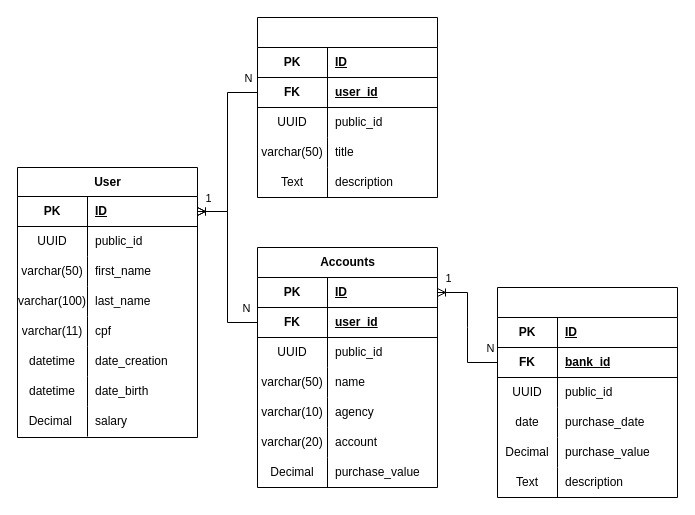
The diagram is 695 pixels wide and 515 high, and some of its shapes have lost their labels. Here are the shapes that lost their labels. From the top down, the box of each, then its label:
(256, 16, 438, 198): FinancialProfile
(496, 286, 678, 498): Purchases
